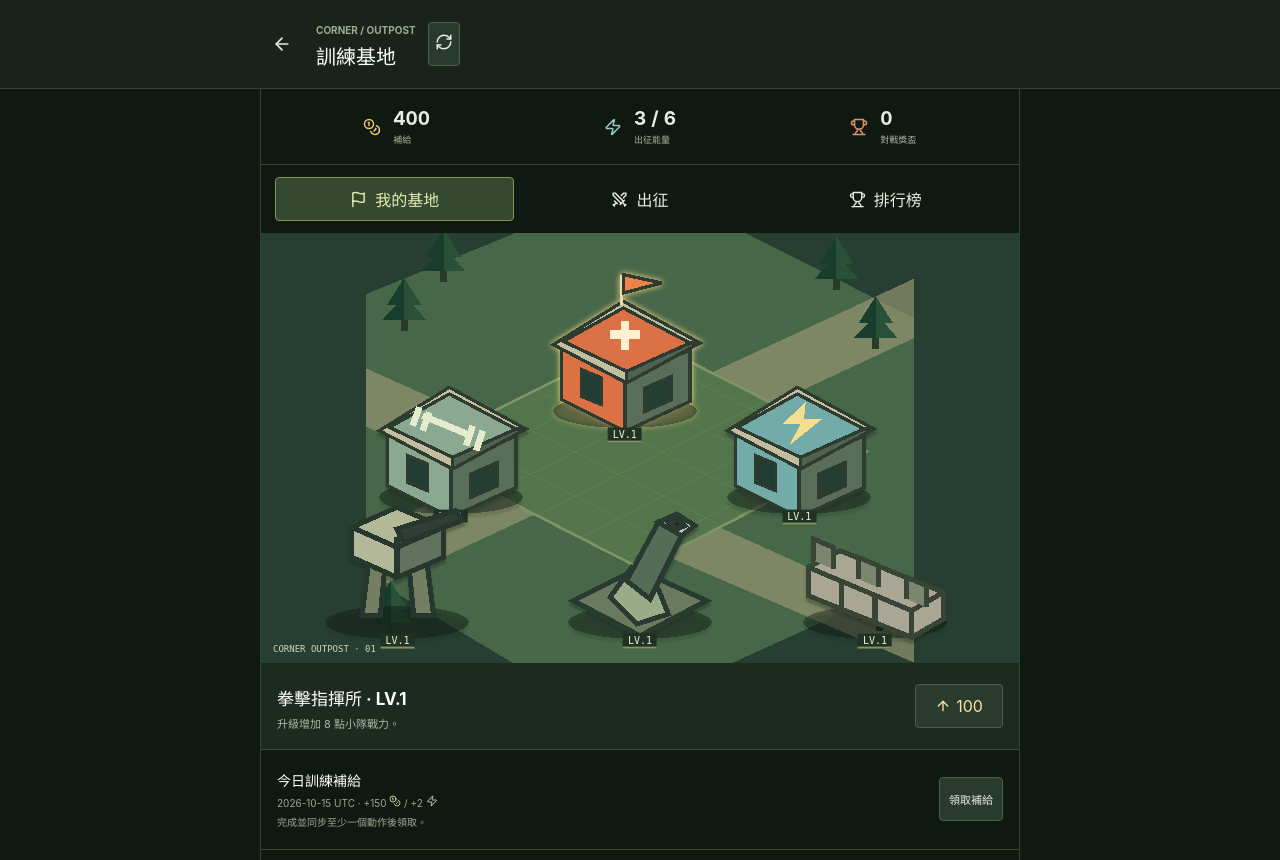
Test: retries an uncertain upgrade with the same request ID and prevents double submits
The image size is (1280, 860).
What coordinates should you click on to do the following:
click the button named "升級 拳擊指揮所"
I would click on:
 (959, 706)
Its box is [915,684,1003,728].
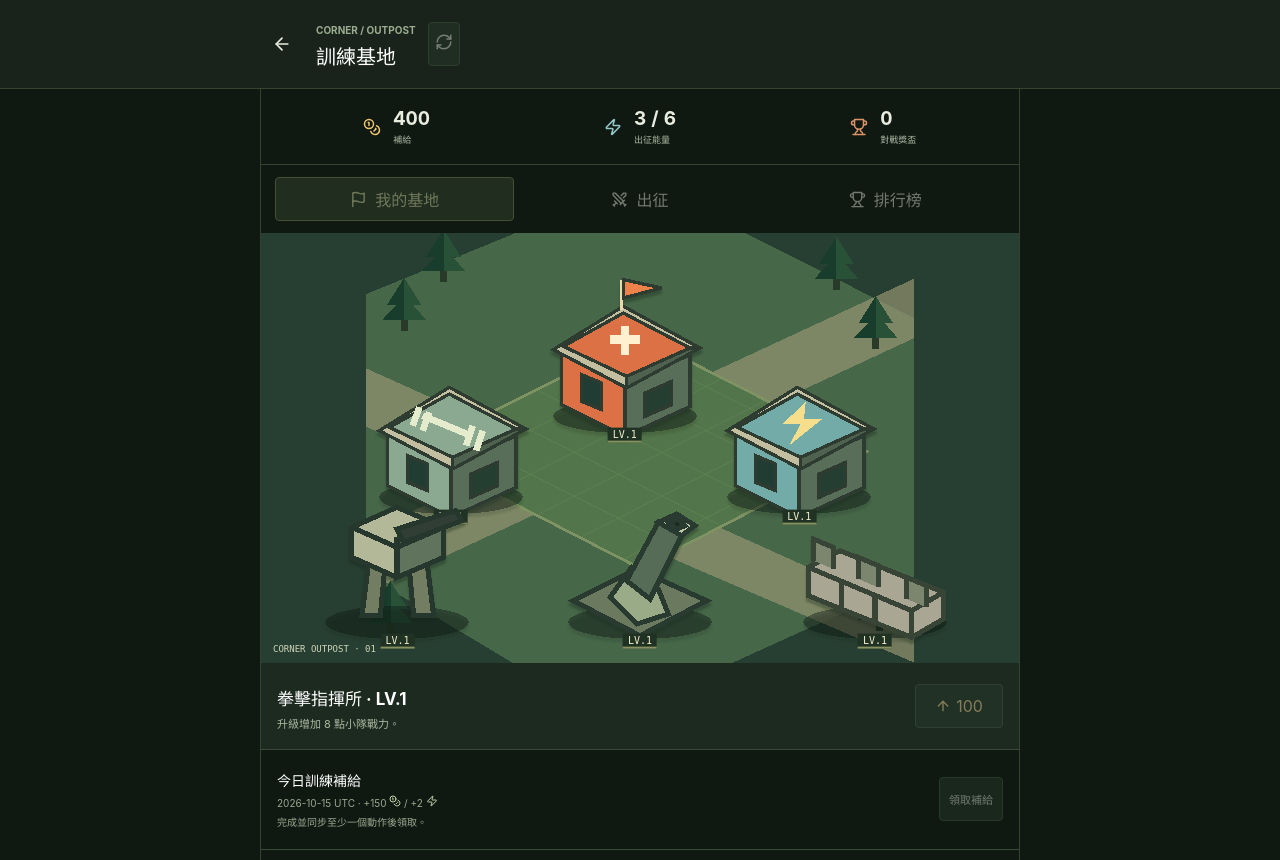
What coordinates should you click on to do the following:
click the button named "升級 拳擊指揮所"
I would click on:
 (959, 706)
Its box is [915,684,1003,728].
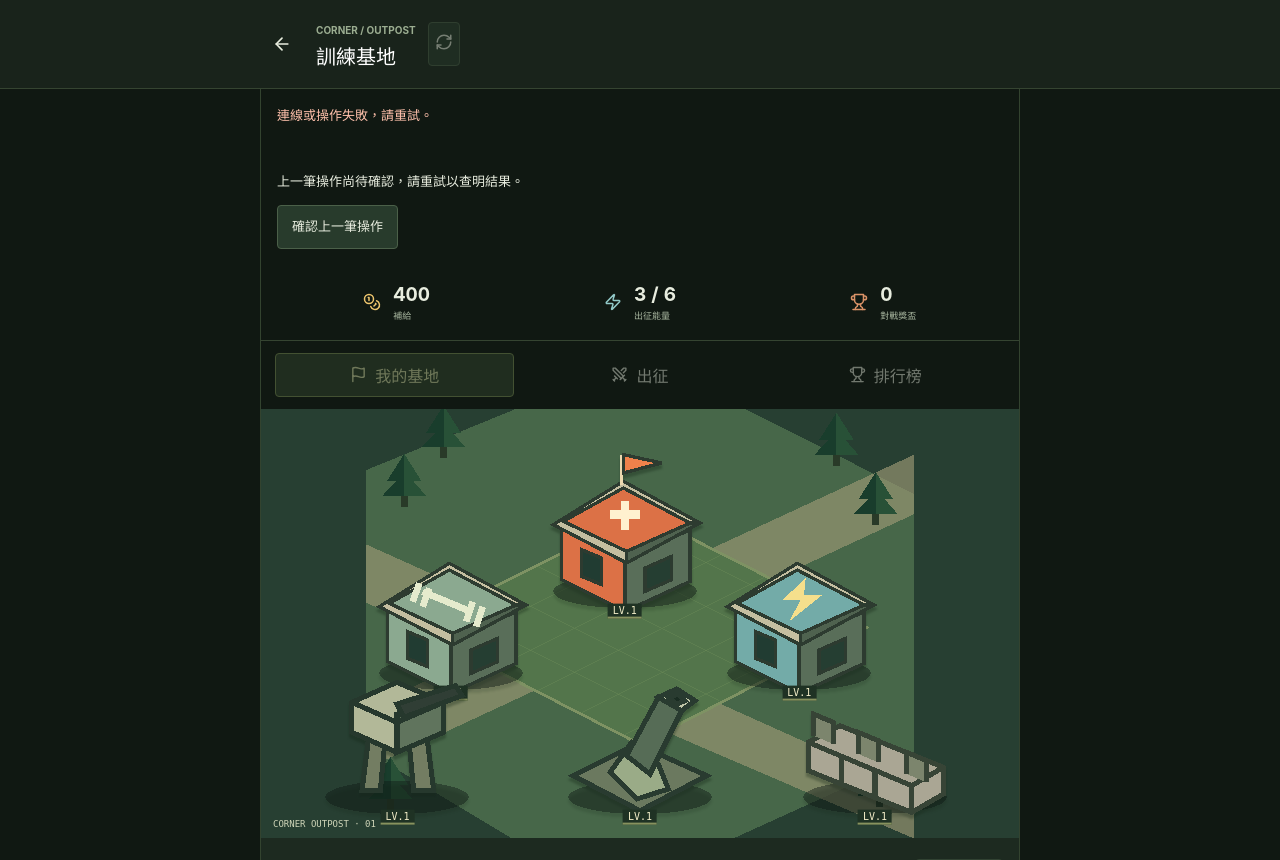
Now the button "確認上一筆操作" is shown
What coordinates should you click on to do the following:
click the button "確認上一筆操作"
I would click on:
 (338, 227)
Its box is [277,205,398,249].
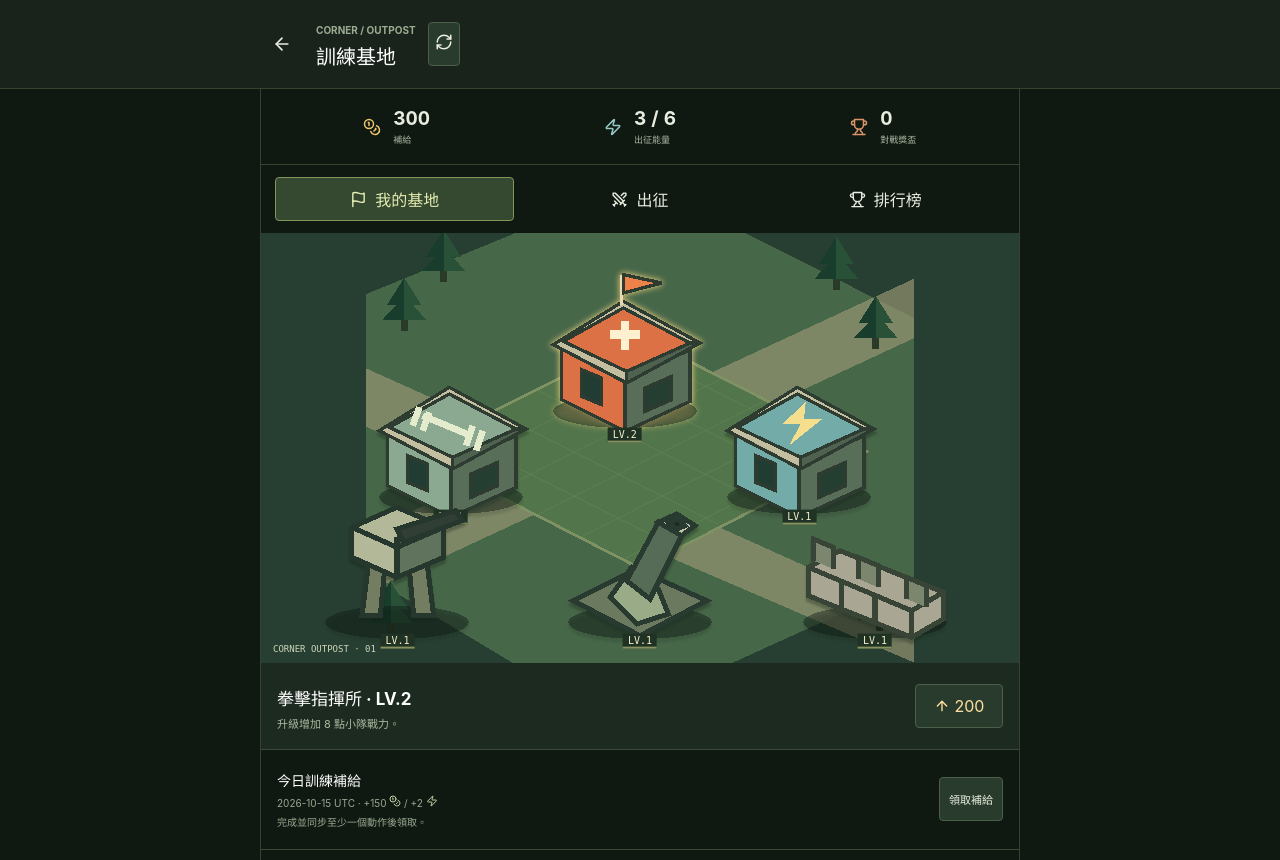
Now the heading "拳擊指揮所 · LV.2" is shown, box [277,684,412,710]
